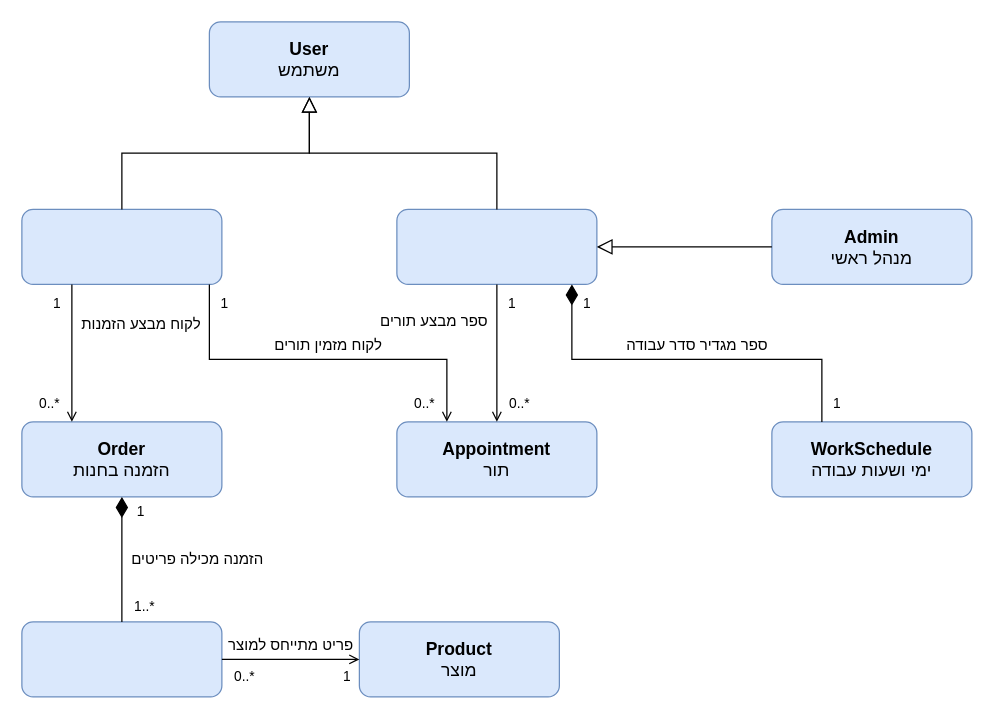
The diagram is 994 pixels wide and 719 high, and some of its shapes have lost their labels. The box of each missing label's shape, as (x1, y1, x2, y2) in pixels:
Barber נותן שירות (ספר): (396, 208, 597, 284)
Client לקוח: (21, 208, 222, 284)
OrderItem פריט בהזמנה: (21, 621, 222, 697)
